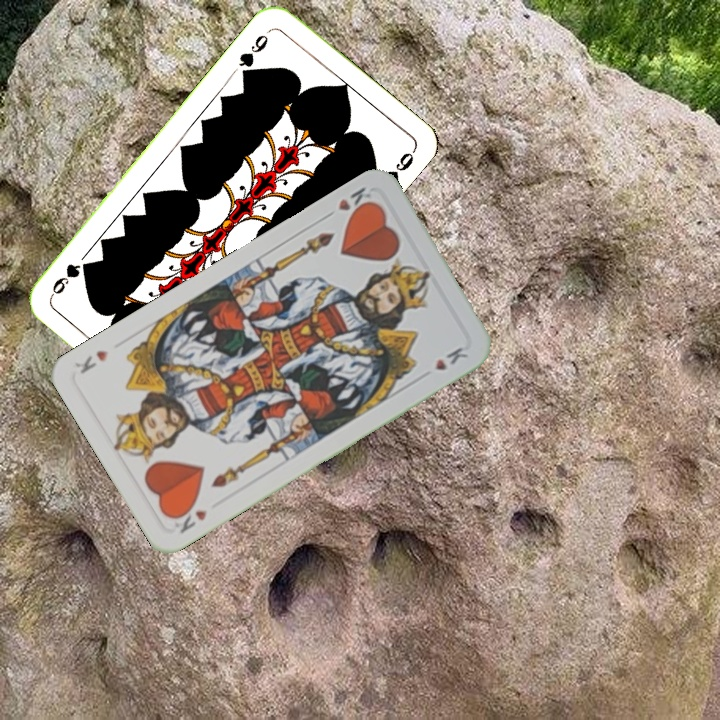G9: (234, 26, 274, 80)
HK: (320, 183, 377, 222), (168, 499, 210, 536)
